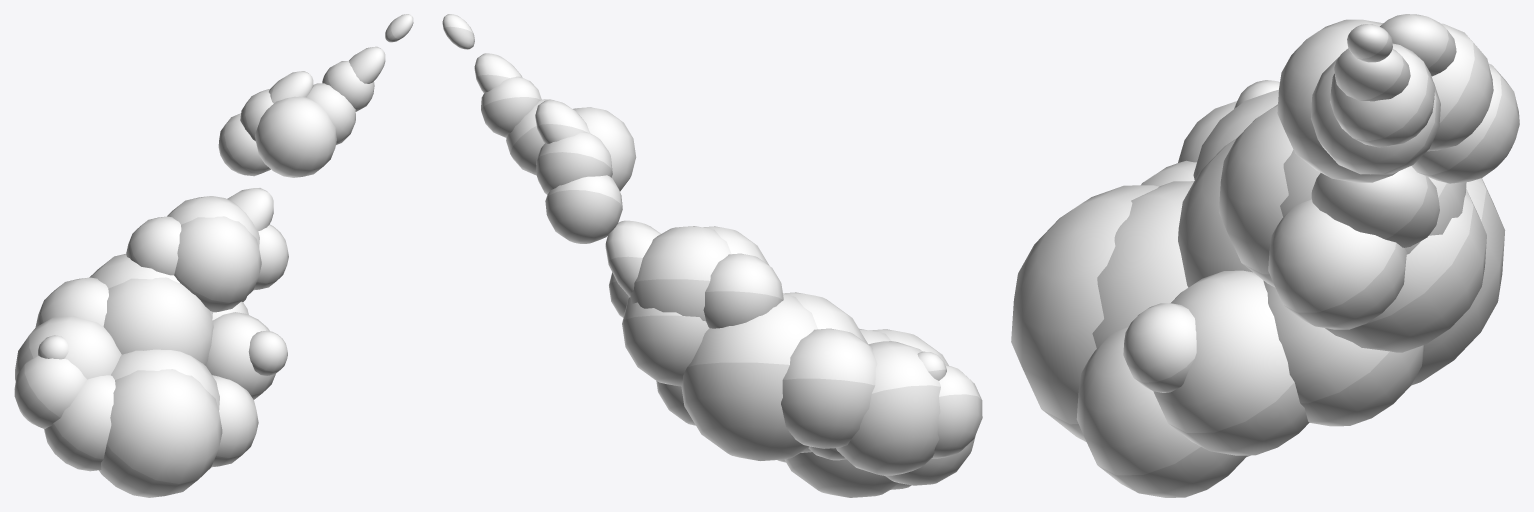
The model's file is cloud_giant01.FBX.
3 renders of one model, left to right at view 1: azimuth 30°, elevation 25°; view 2: azimuth 150°, elevation 25°; view 3: azimuth 270°, elevation 25°, orthographic. The views are drawn at different scales.
Parts seen in each view (by area): view 1: cloud_giant01; view 2: cloud_giant01; view 3: cloud_giant01.
Boxes of the visible parts, box(x1,y1,x2,y2) form: cloud_giant01: box(14, 14, 413, 497); cloud_giant01: box(442, 14, 982, 497); cloud_giant01: box(1011, 14, 1519, 497).
Size of the model in its own units: 398 by 325 by 209.
